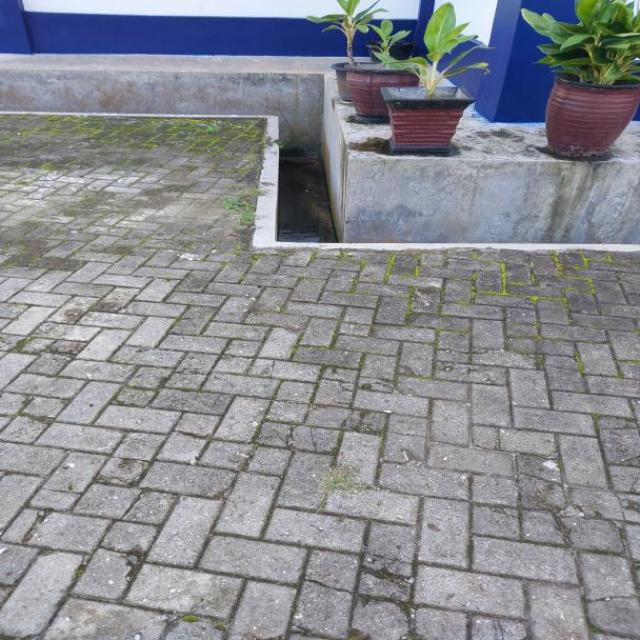plant ahead at: (521, 0, 640, 155), (374, 0, 477, 154)
